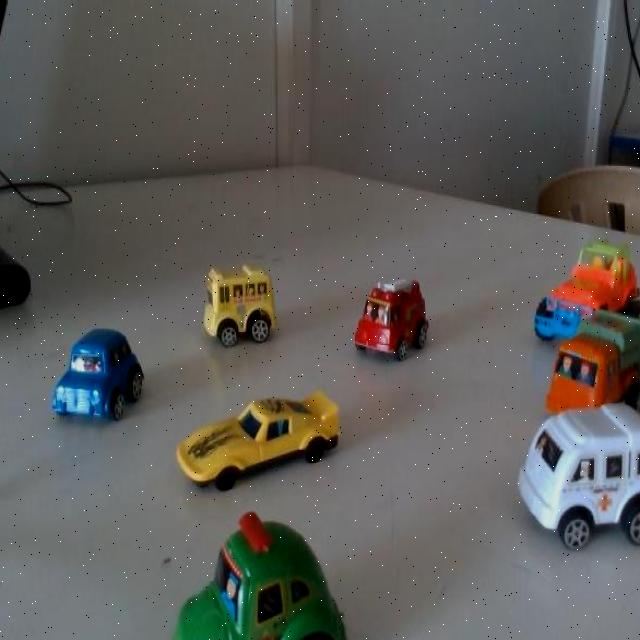car: (494, 376, 640, 580), (162, 526, 326, 640), (188, 378, 324, 504), (526, 236, 615, 348), (191, 257, 284, 364), (352, 263, 434, 380), (556, 301, 627, 427), (51, 326, 130, 429)
